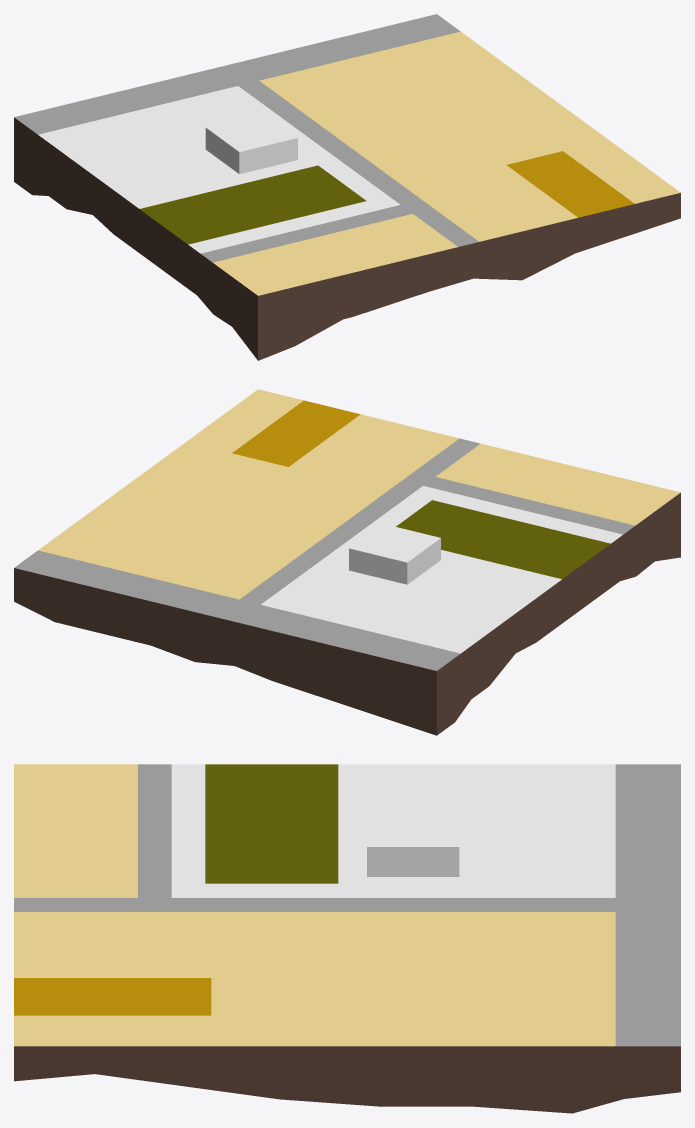
File: Second Block.fbx
3 renders of one model, top to bottom at view 1: azimuth 30°, elevation 25°; view 2: azimuth 150°, elevation 25°; view 3: azimuth 270°, elevation 25°, orthographic. The views are drawn at different scales.
Visible parts, largest first — view 1: Group1, Group2; view 2: Group1, Group2; view 3: Group1, Group2.
Boxes of the visible parts, x1,y1,x2,y2 form: Group1: (14, 14, 680, 360); Group2: (205, 113, 297, 174); Group1: (14, 389, 680, 735); Group2: (349, 523, 440, 584); Group1: (14, 764, 680, 1113); Group2: (367, 808, 459, 876).
Size of the model in its own units: 10000 by 1970 by 10000.
